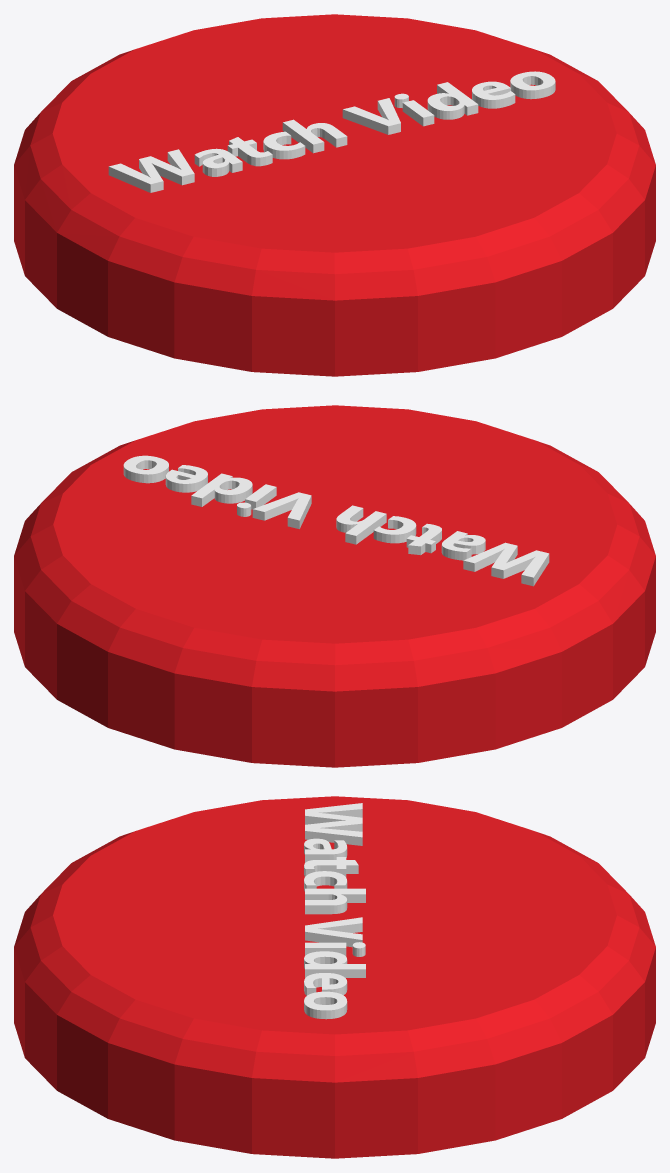
File: buttonDollar.glb
3 views of the same model, one above another, from view 1: azimuth 30°, elevation 25°; view 2: azimuth 150°, elevation 25°; view 3: azimuth 270°, elevation 25° (orthographic).
Size of the model in its own units: 0.1294 by 0.0259 by 0.1294.
